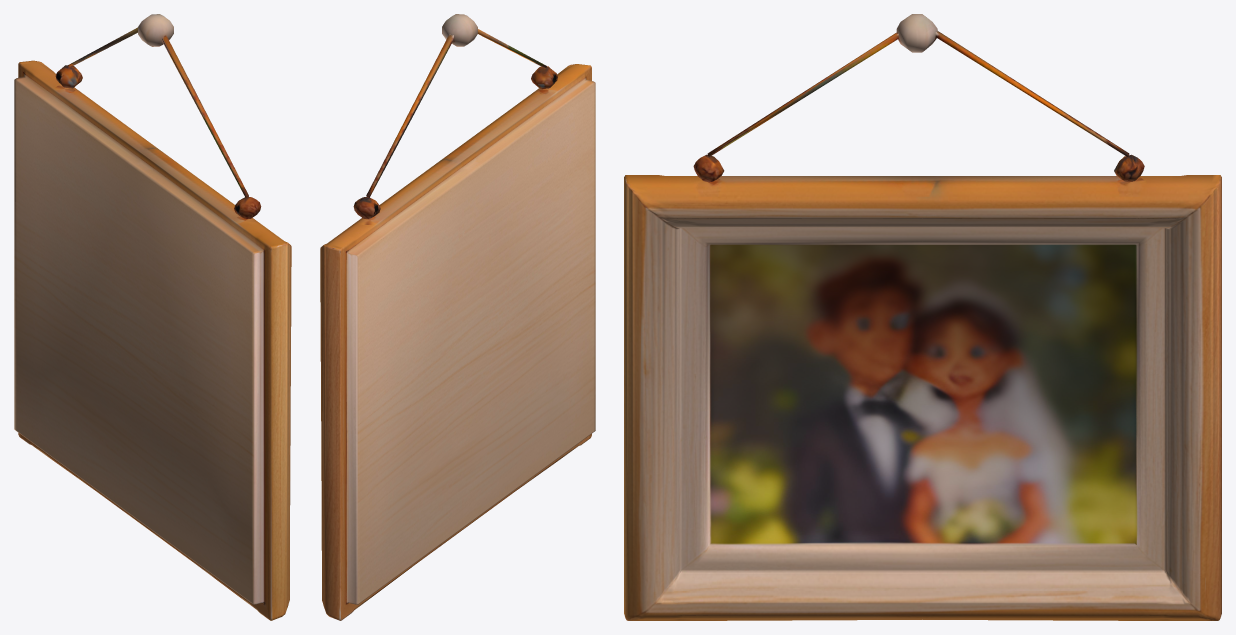
File: 结婚照.fbx
The picture shows the model from 3 angles, left to right: view 1: azimuth 30°, elevation 25°; view 2: azimuth 150°, elevation 25°; view 3: azimuth 270°, elevation 25°; orthographic projection. The views are drawn at different scales.
Parts seen in each view (by area): view 1: tripo_node_4bc7c87c; view 2: tripo_node_4bc7c87c; view 3: tripo_node_4bc7c87c.
Boxes of the visible parts, <box> form: tripo_node_4bc7c87c: <box>14,14,291,620</box>; tripo_node_4bc7c87c: <box>320,14,595,620</box>; tripo_node_4bc7c87c: <box>624,14,1221,620</box>.
Bounding box in the file's own units: 0.0767 × 0.9483 × 0.8496.
1 material, 1 textured.
